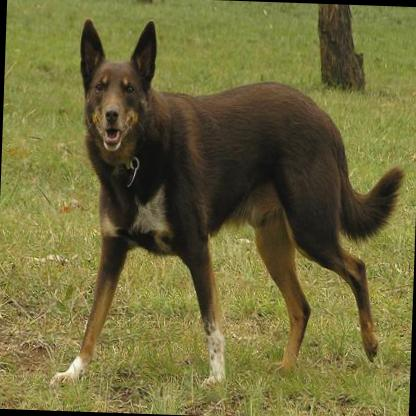kelpie: (49, 15, 409, 396)
